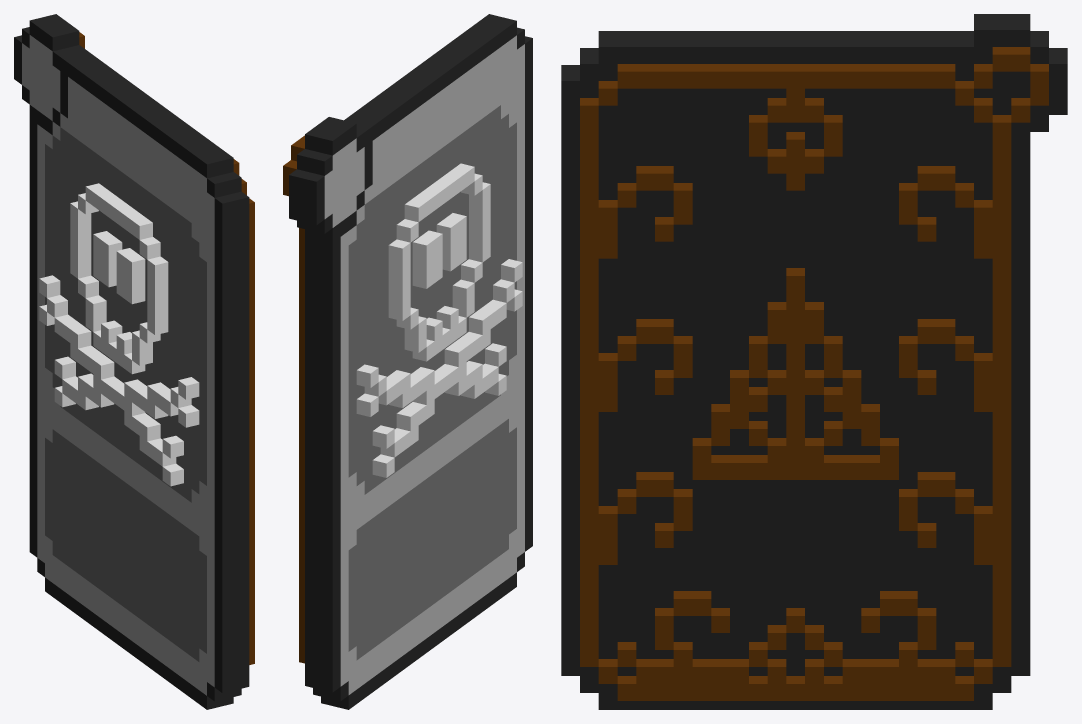
File: AvadaKedavra.obj
3 renders of one model, left to right at view 1: azimuth 30°, elevation 25°; view 2: azimuth 150°, elevation 25°; view 3: azimuth 270°, elevation 25°, orthographic. The views are drawn at different scales.
Size of the model in its own units: 0.4 by 4 by 2.7.
Materials: 1 (1 with a texture image).
